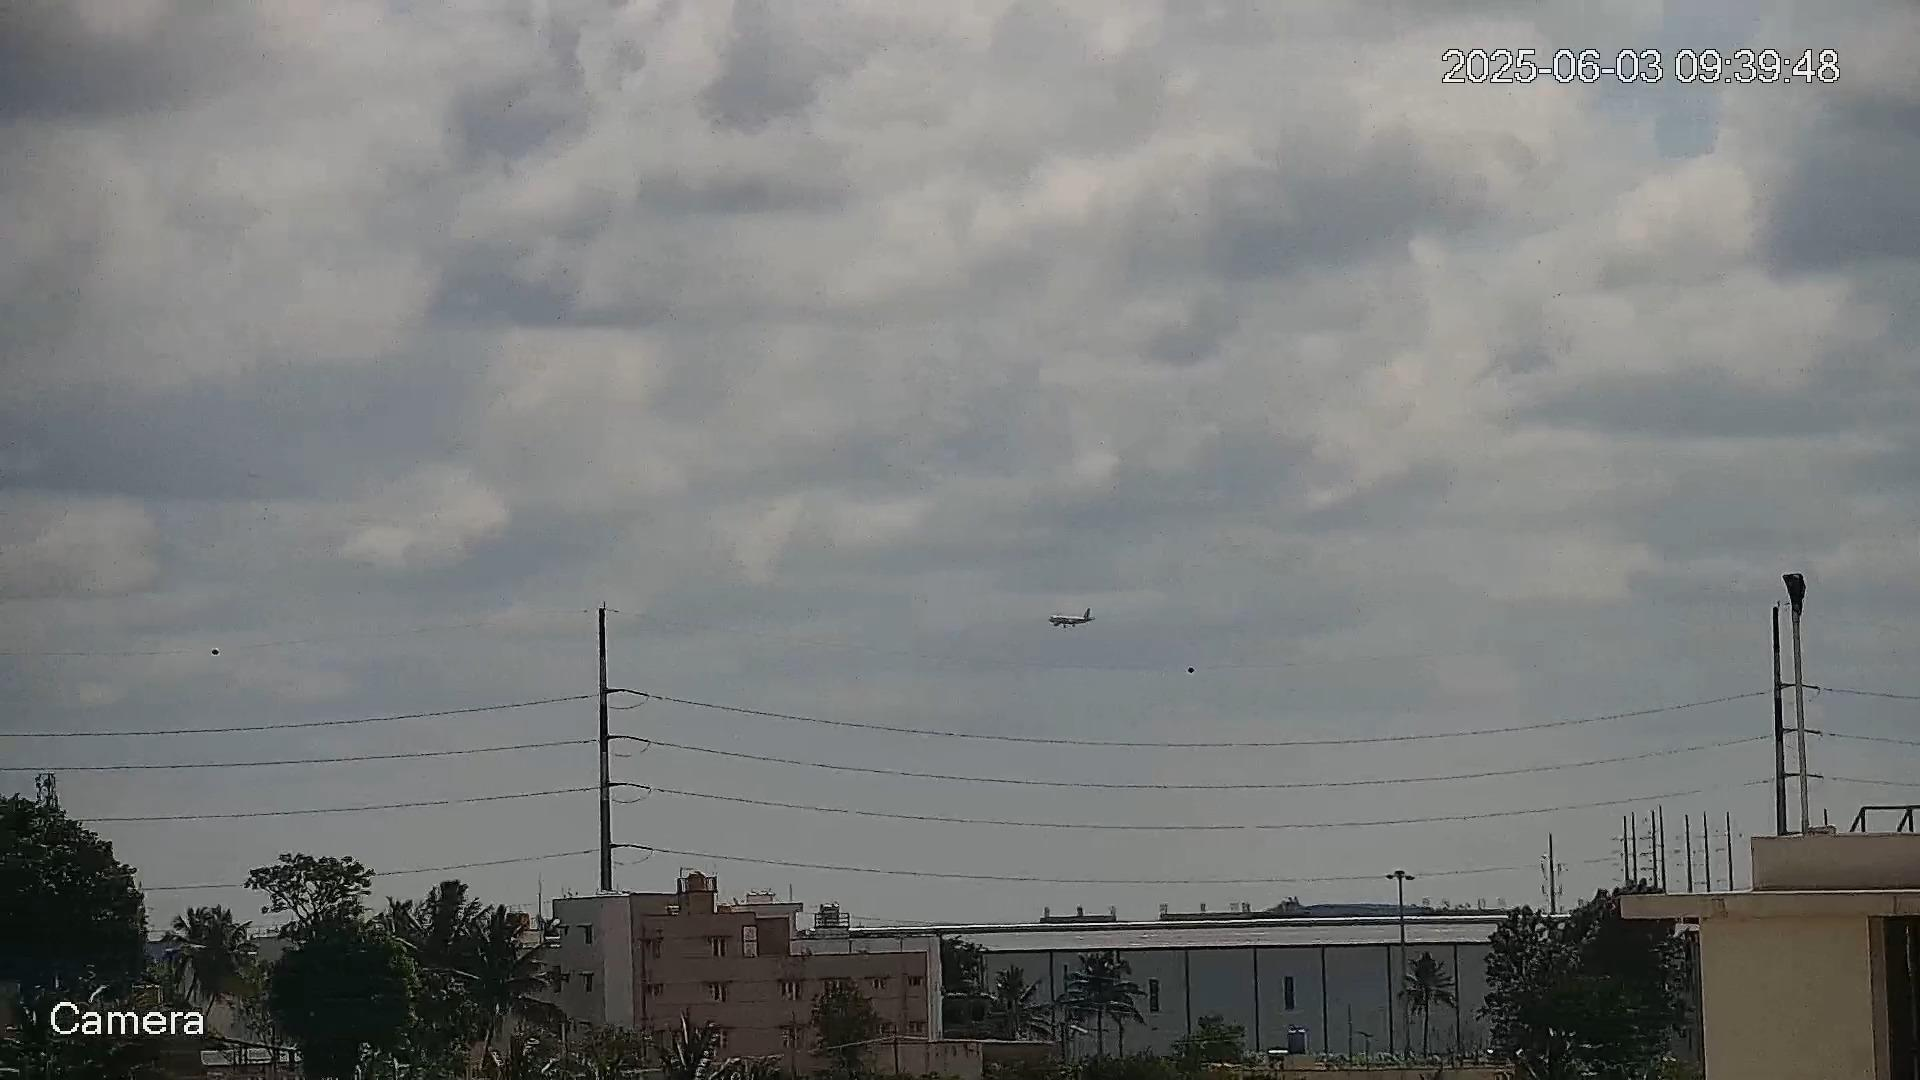Aircraft: (1046, 607, 1095, 629)
